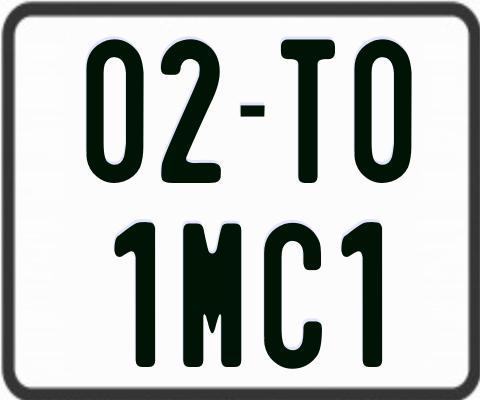0: (354, 37, 418, 186), (83, 38, 142, 188)
1: (114, 219, 161, 366), (340, 221, 384, 368)
2: (160, 37, 222, 182)
C: (263, 222, 325, 372)
M: (181, 222, 242, 370)
T: (278, 38, 334, 183)
